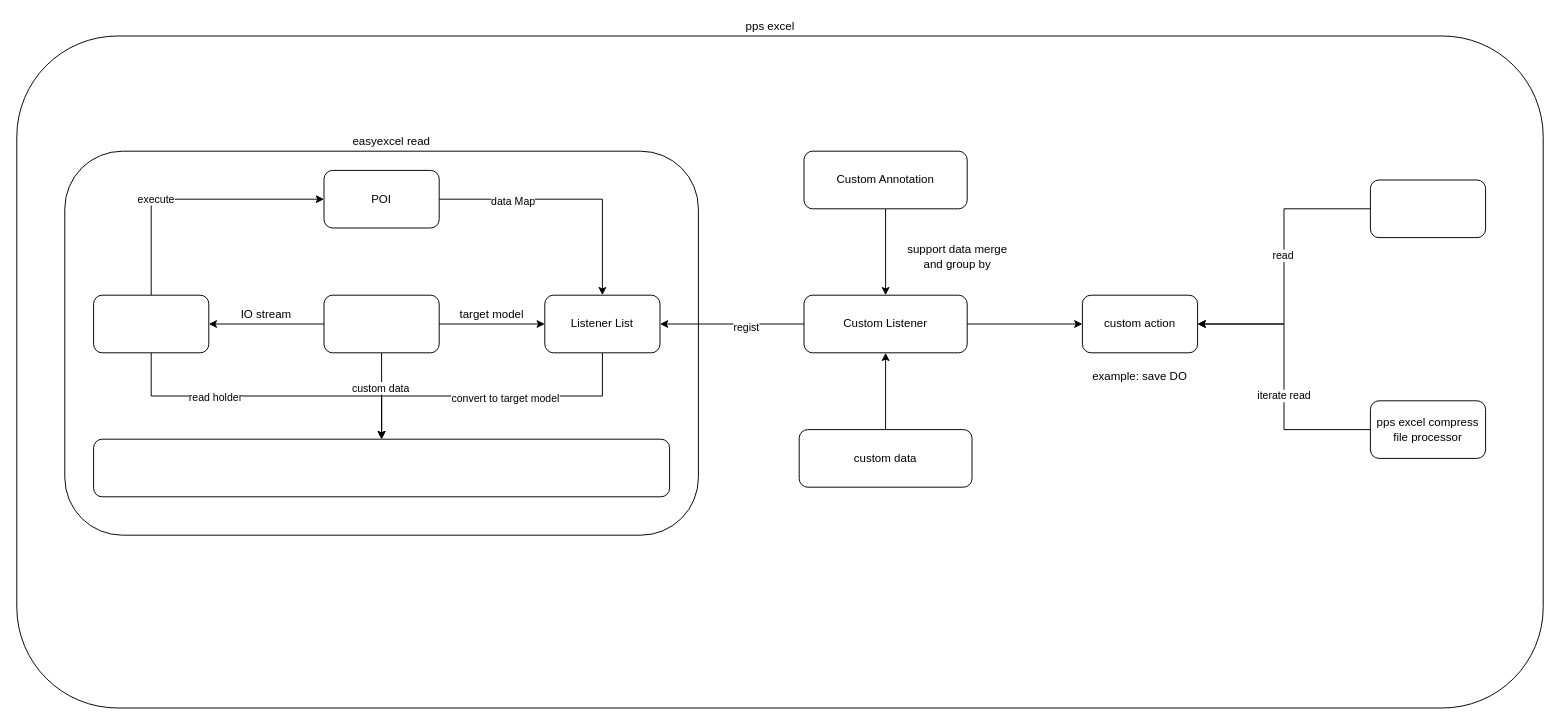
Image size: 1560x725. Some labels were removed from this diagram. The shapes that lost their labels are listed below. From the top down, each one's centre as x and y in pixels, then its label:
point (1427, 208): pps excel default processor
point (151, 323): executor
point (381, 323): readBuilder
point (381, 467): context
